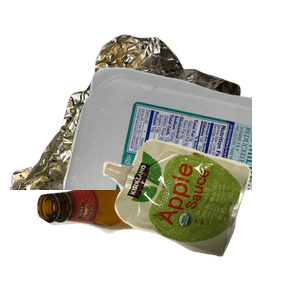glass: (34, 170, 223, 300)
metal: (10, 32, 250, 212)
plastic: (60, 65, 300, 245)
trash: (100, 137, 300, 300)
